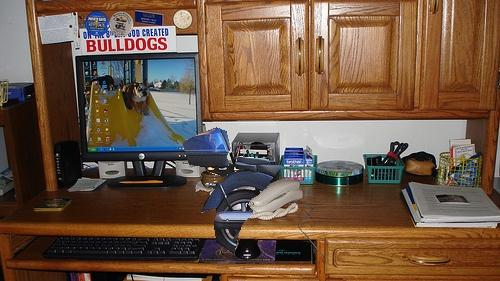tampered: (184, 128, 282, 254)
